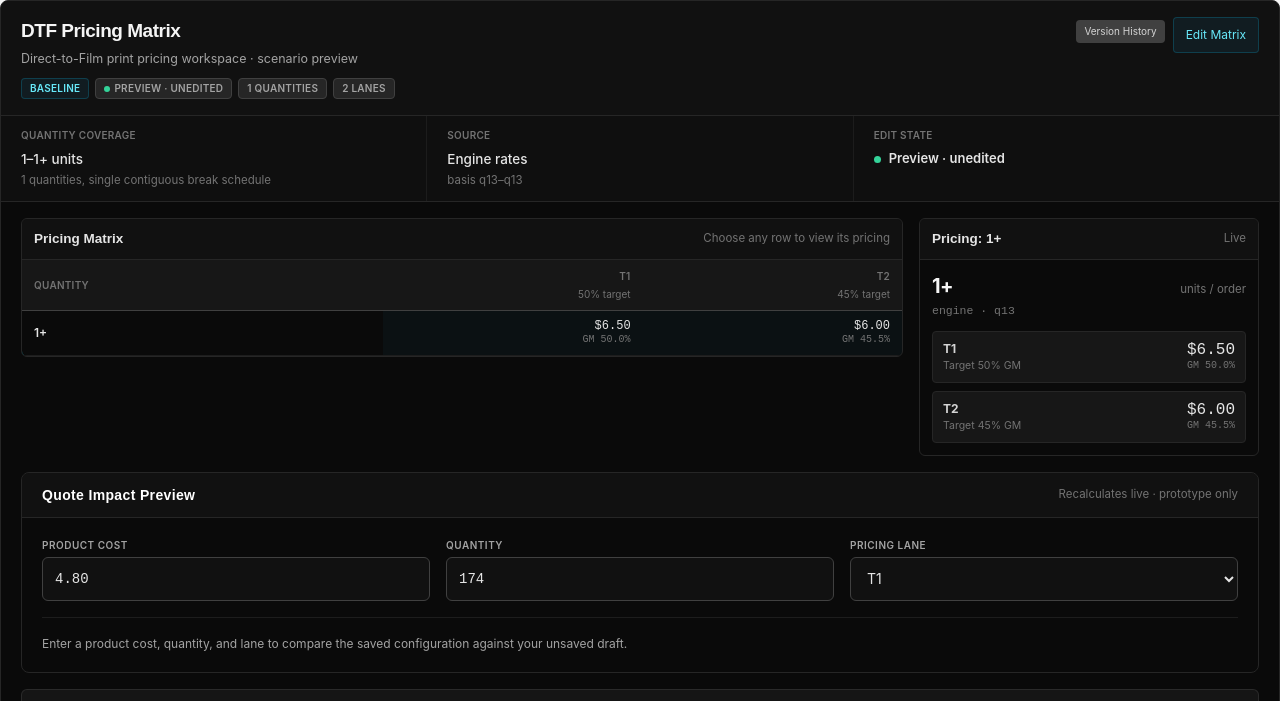
Test: matrix row controls › spells out gross margin instead of relying on the GM acronym
The width and height of the screenshot is (1280, 701).
Expected: the heading "DTF Pricing Matrix" is shown, [21,20,180,41]
Expected: the 1st text "GM 50.0%" is shown, [583,334,631,346]
Click the button "Edit Matrix" at (1216, 35), box [1173,17,1259,53]
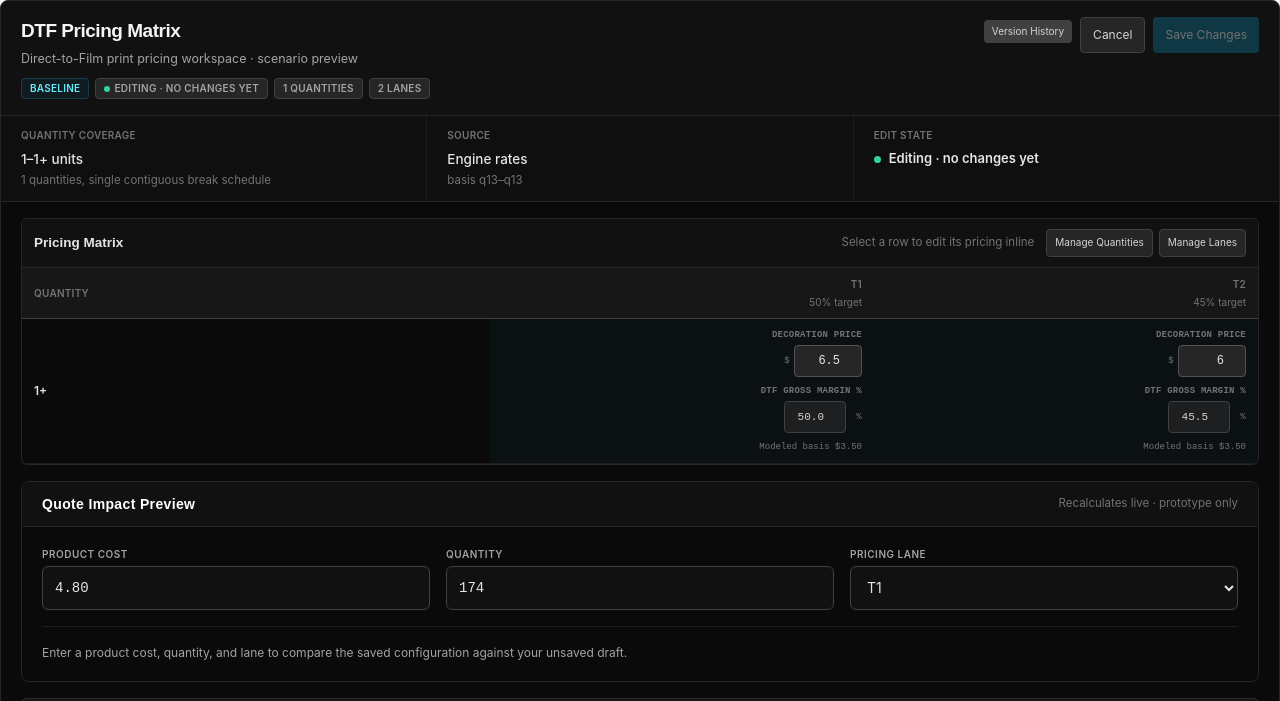
Expected: the 1st text "DTF Gross Margin %" is shown, [761,383,862,399]
